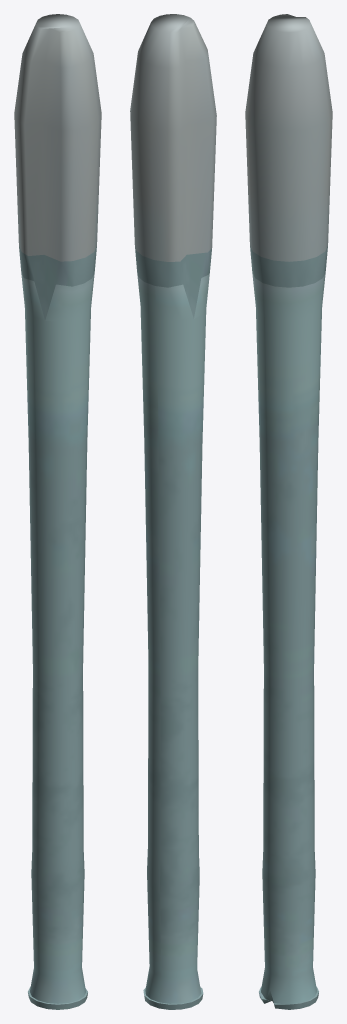
The model's file is SparklerHand.fbx.
3 renders of one model, left to right at view 1: azimuth 90°, elevation 25°; view 2: azimuth 150°, elevation 25°; view 3: azimuth 270°, elevation 25°, orthographic.
Visible parts, largest first — view 1: Capsule; view 2: Capsule; view 3: Capsule.
Part boxes in pixels (x1=…): Capsule: x1=14, y1=14, x2=101, y2=1009; Capsule: x1=130, y1=14, x2=216, y2=1009; Capsule: x1=245, y1=14, x2=332, y2=1009.
Bounding box in the file's own units: 0.0798 × 0.995 × 0.0808.
